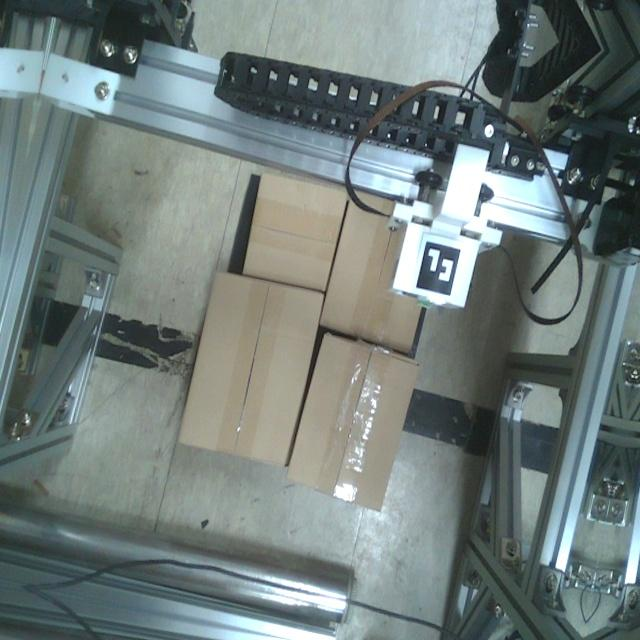box: (173, 266, 328, 474), (281, 328, 425, 516), (238, 169, 352, 296)
